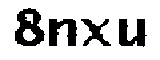8: (11, 6, 46, 53)
n: (45, 16, 79, 53)
u: (115, 14, 151, 50)
x: (80, 14, 115, 51)
